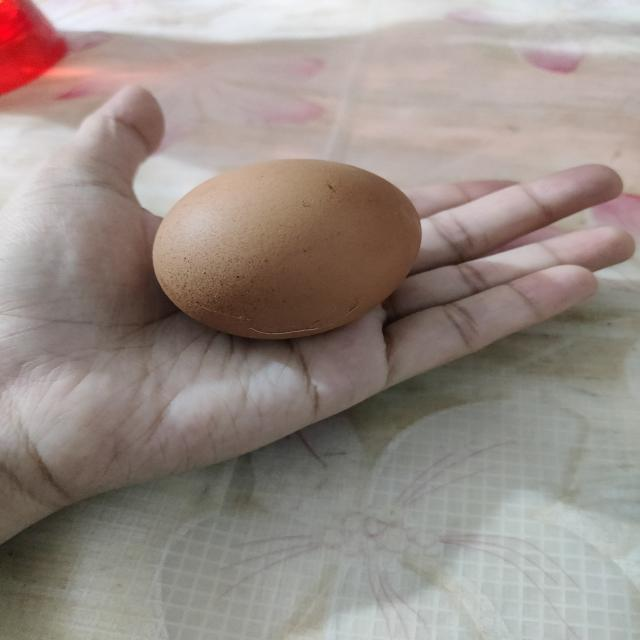Egg: (148, 155, 432, 343)
